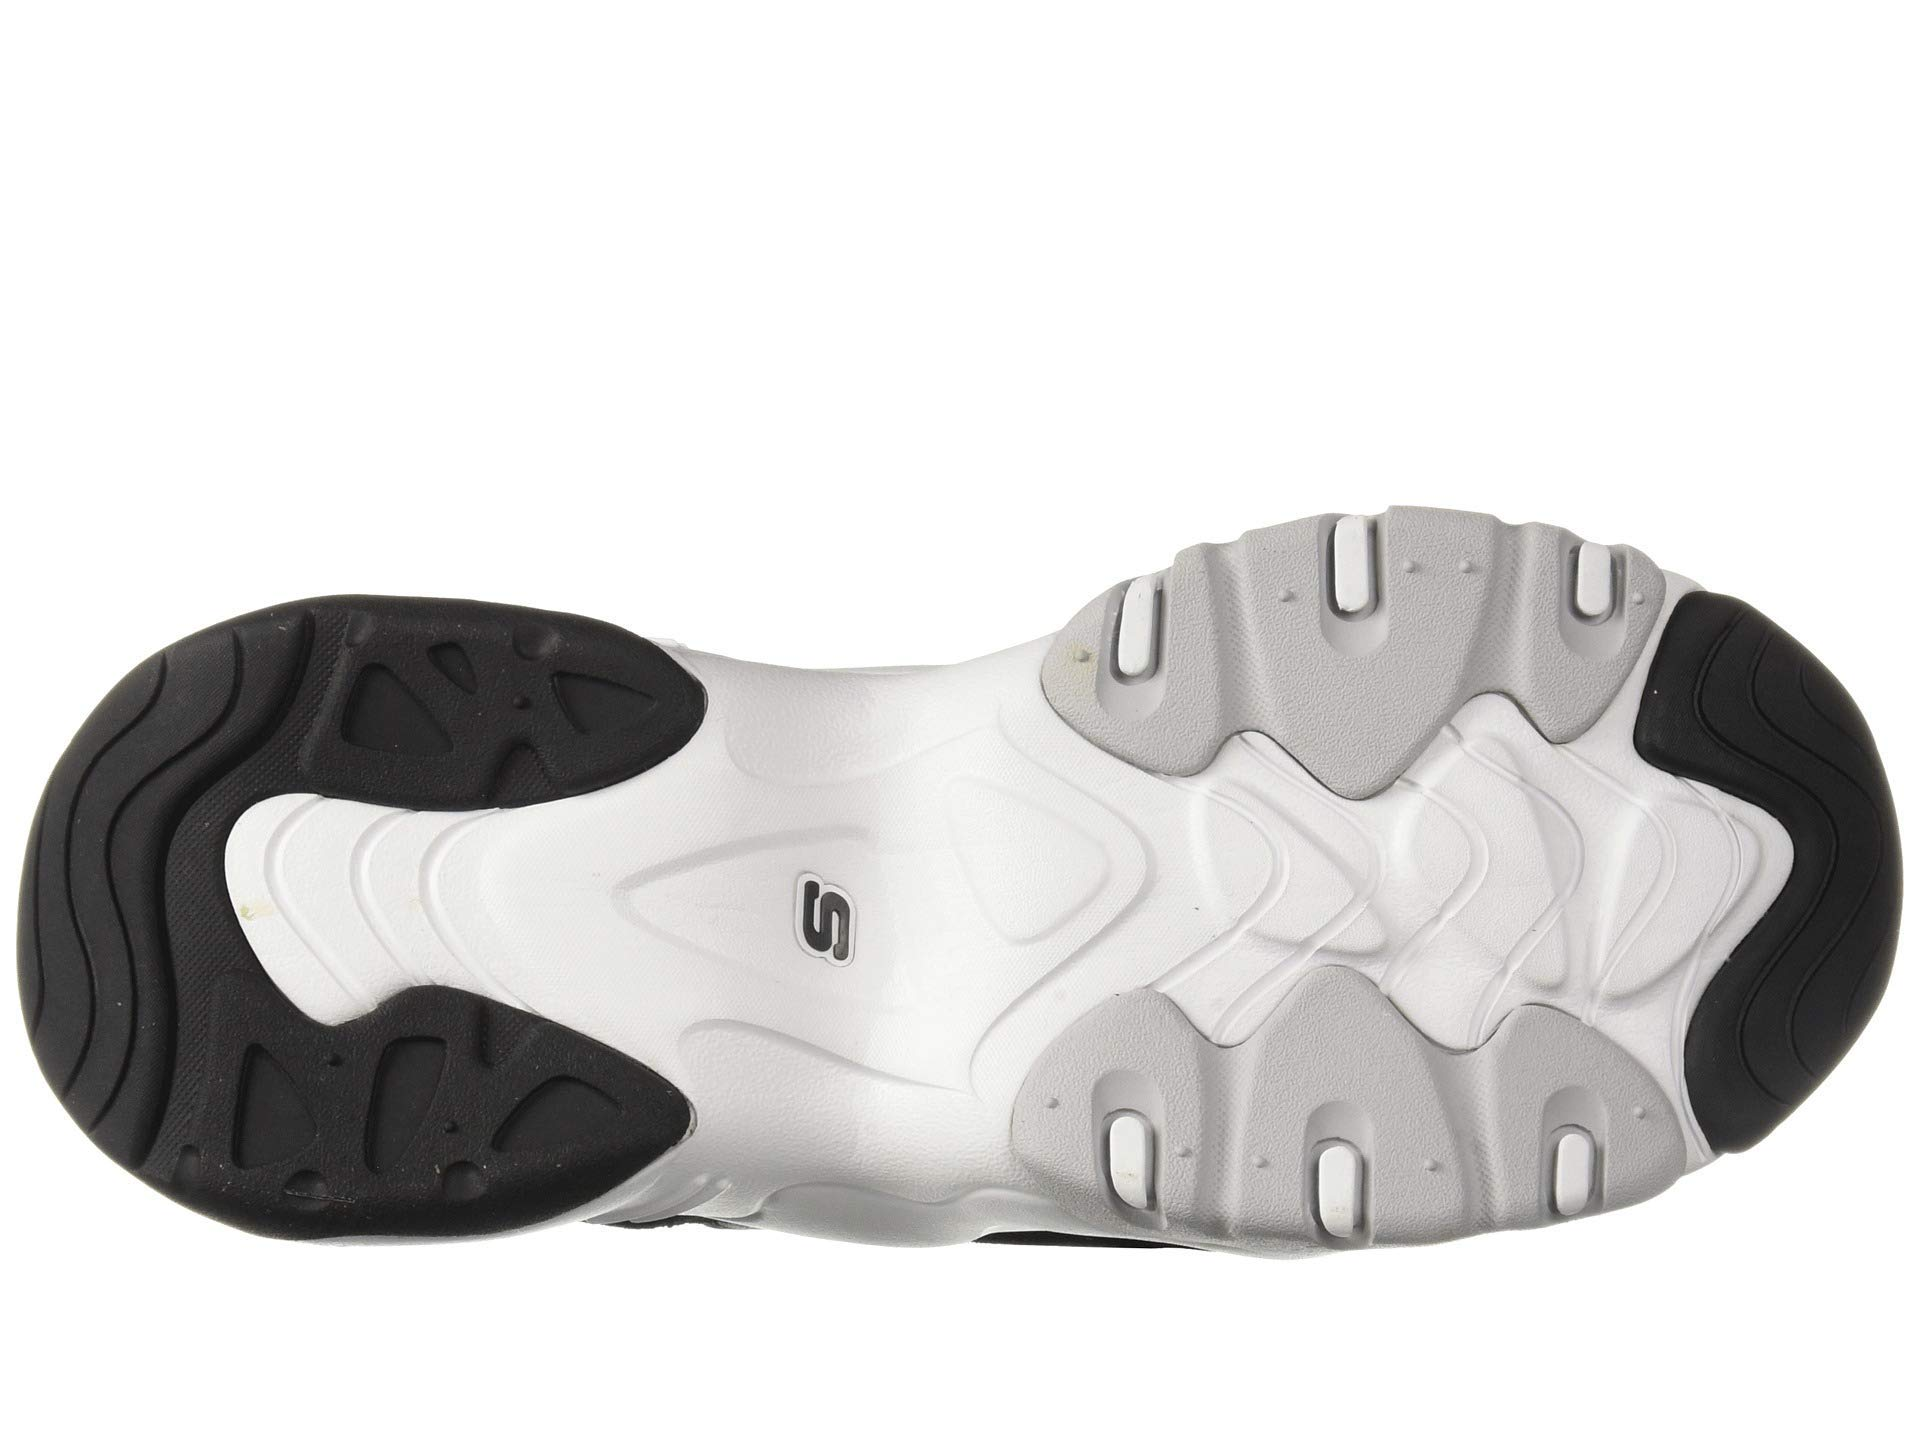triangle: (314, 632, 670, 920)
